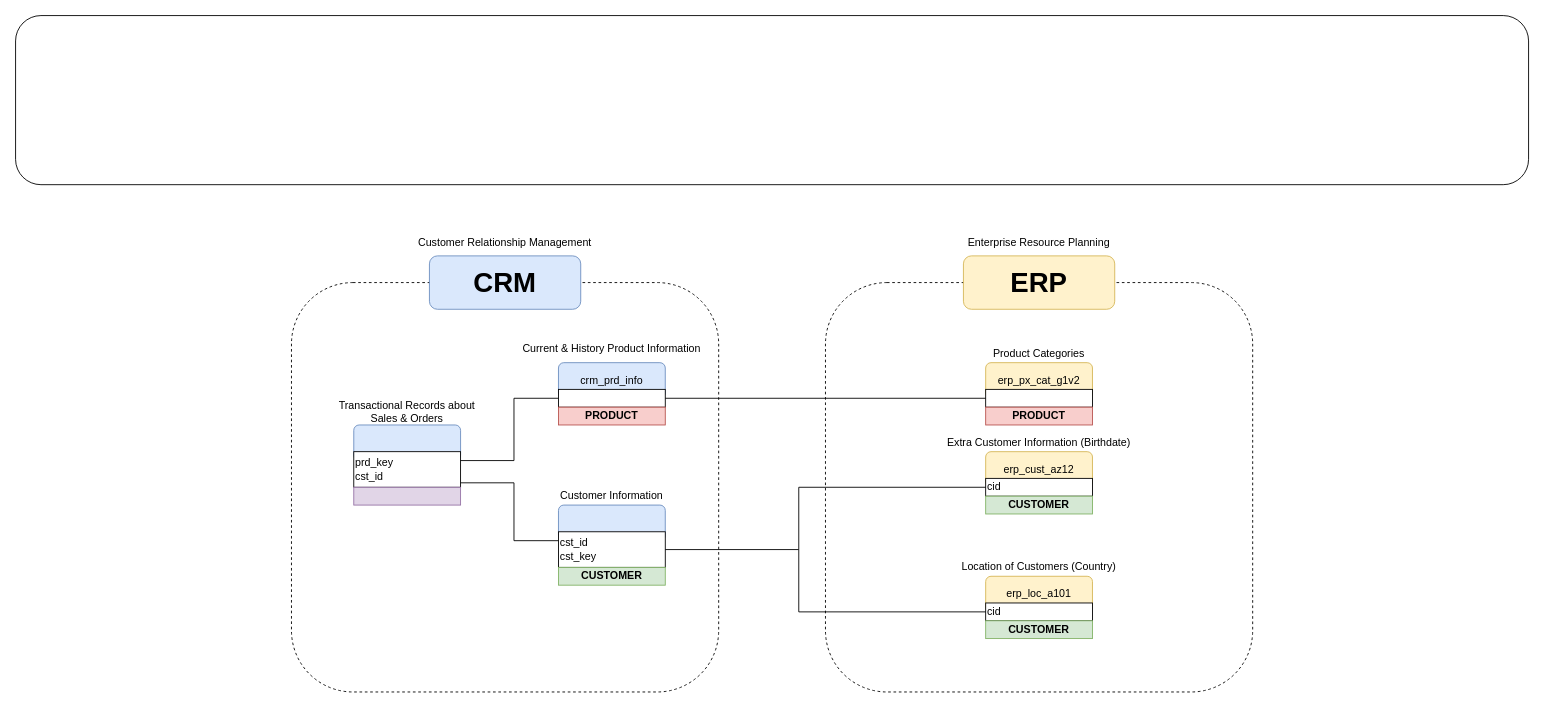
The diagram is 1544 pixels wide and 708 high, and some of its shapes have lost their labels. The centre of each missing label's shape, as x and y in pixels:
crm_cust_info: (611,522)
crm_sales_details: (407,442)
Data Integration (how the tables are related): (772,100)
id: (1038,397)
prd_key: (611,397)
SALES: (407,495)
